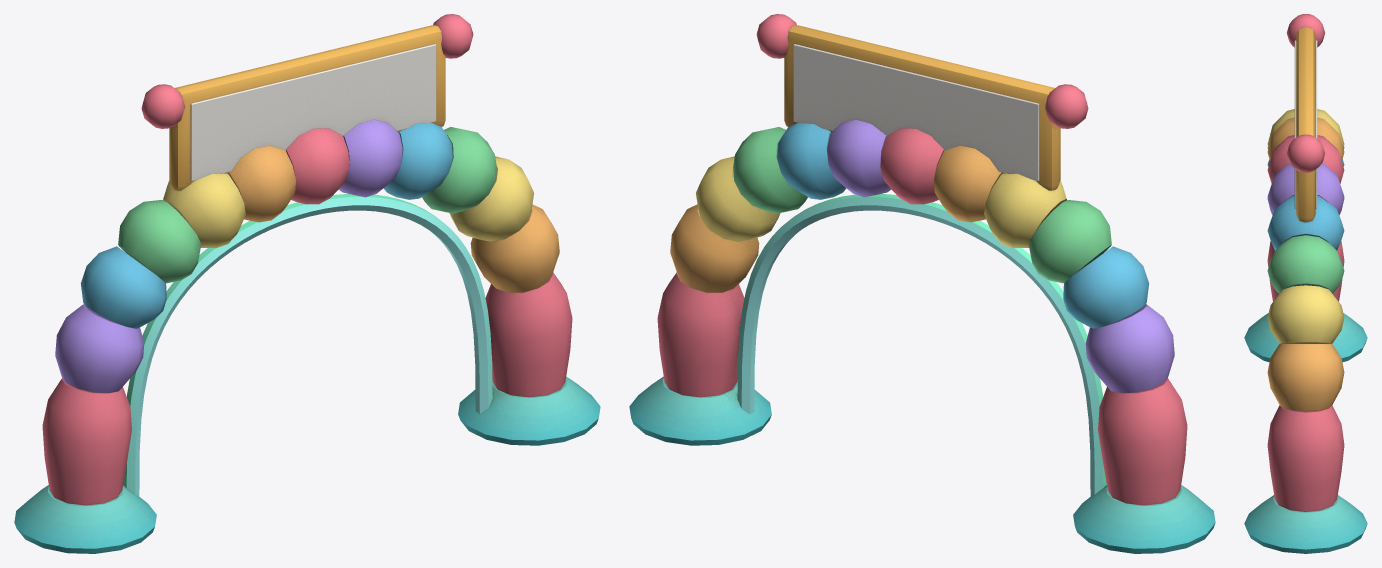
File: dash_arch.fbx
3 renders of one model, left to right at view 1: azimuth 30°, elevation 25°; view 2: azimuth 150°, elevation 25°; view 3: azimuth 270°, elevation 25°, orthographic. The views are drawn at different scales.
Visible parts, largest first — view 1: dash_arch, dash_arch_glow; view 2: dash_arch, dash_arch_glow; view 3: dash_arch.
Part boxes in pixels (left/top/right/bottom): dash_arch: left=14, top=14, right=600, bottom=553; dash_arch_glow: left=123, top=193, right=492, bottom=496; dash_arch: left=629, top=14, right=1215, bottom=553; dash_arch_glow: left=737, top=193, right=1106, bottom=496; dash_arch: left=1244, top=14, right=1367, bottom=553.
Size of the model in its own units: 2920 by 2061 by 640.
Materials: 1 (1 with a texture image).
